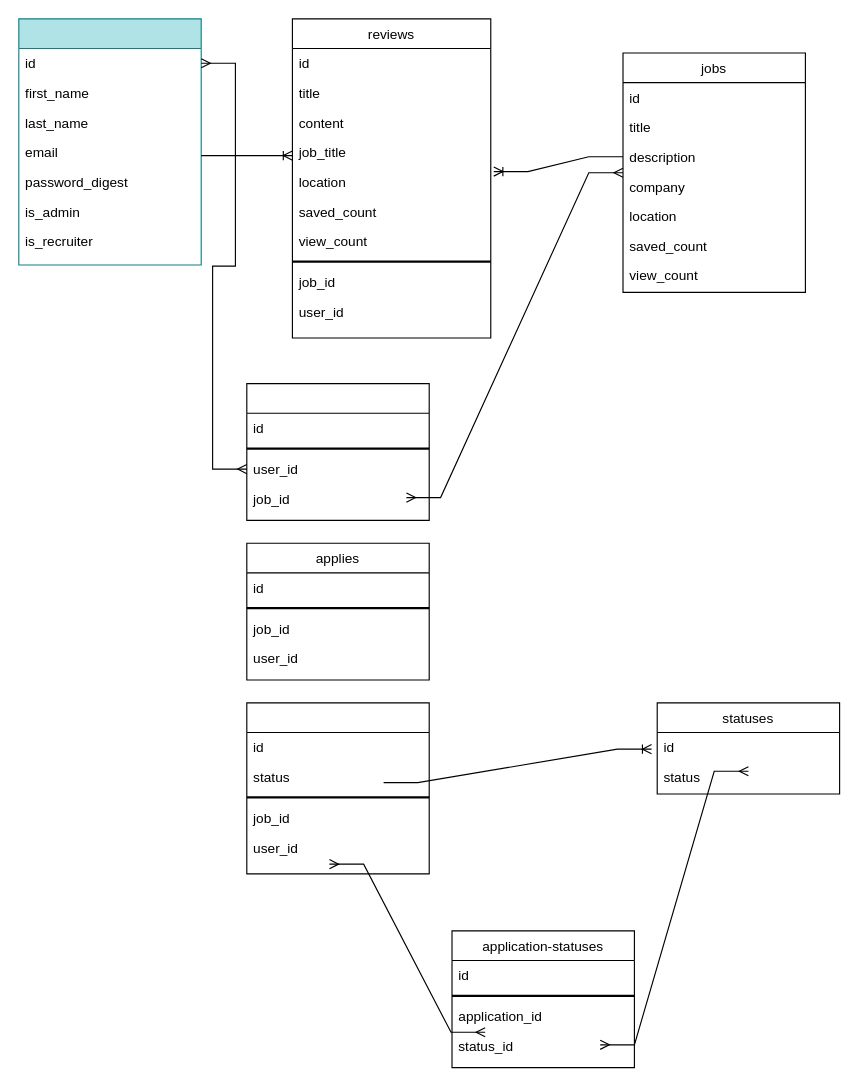
Some shapes in this 858 by 1086 pixel diagram are drawn without their labels. The shapes that lost their labels are listed below. From the top down, each one's box as (x1, y1, x2, y2) in pixels, then its label:
(18, 18, 201, 265): Users
(246, 382, 429, 520): likes
(246, 702, 429, 874): applications
